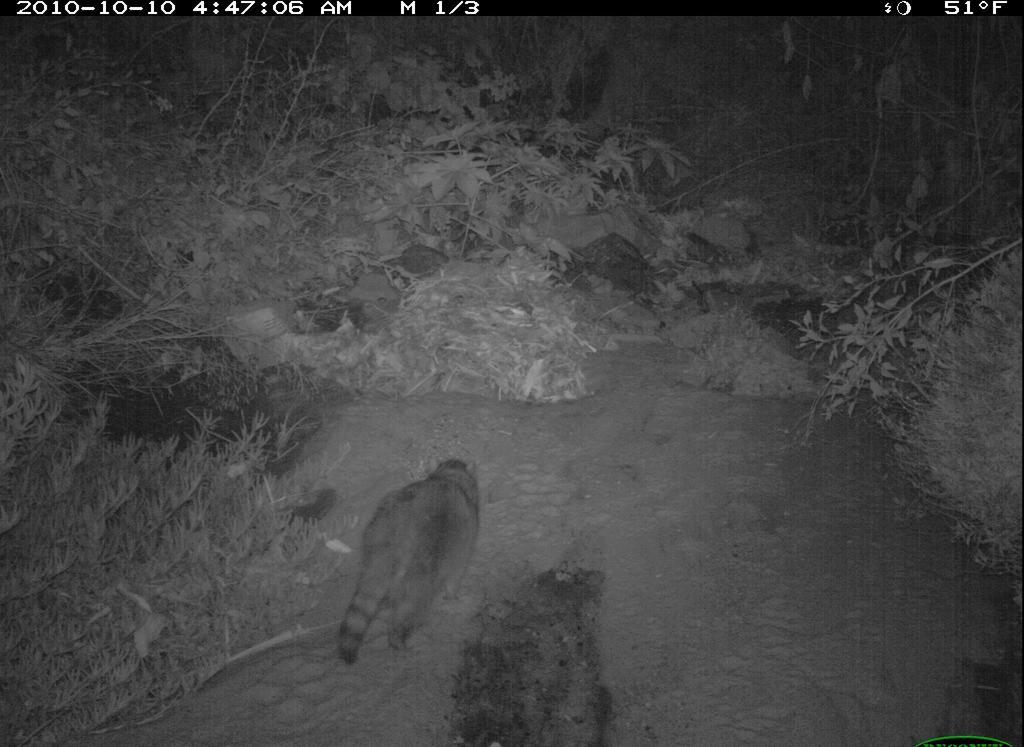raccoon: (301, 443, 504, 680)
